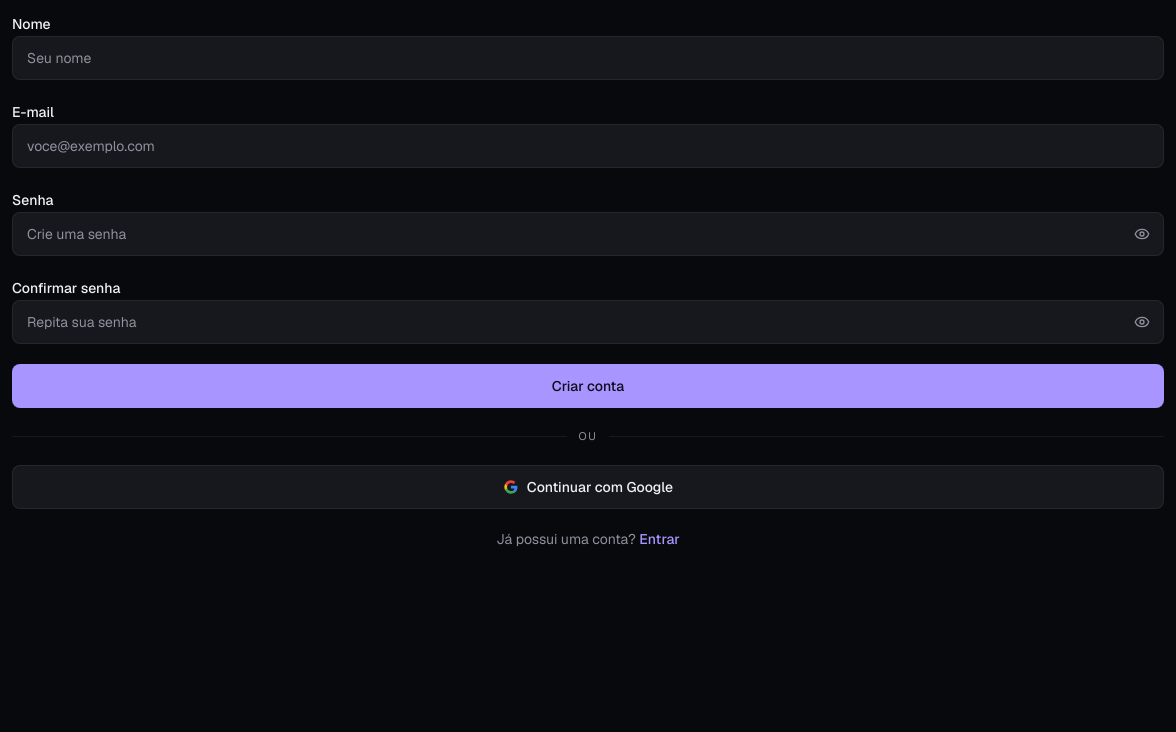
it: fluxo visual de autenticação › valida cadastro, incluindo tamanho e confirmação da senha
Click the button "Criar conta" at (588, 386), box [12, 364, 1164, 408]
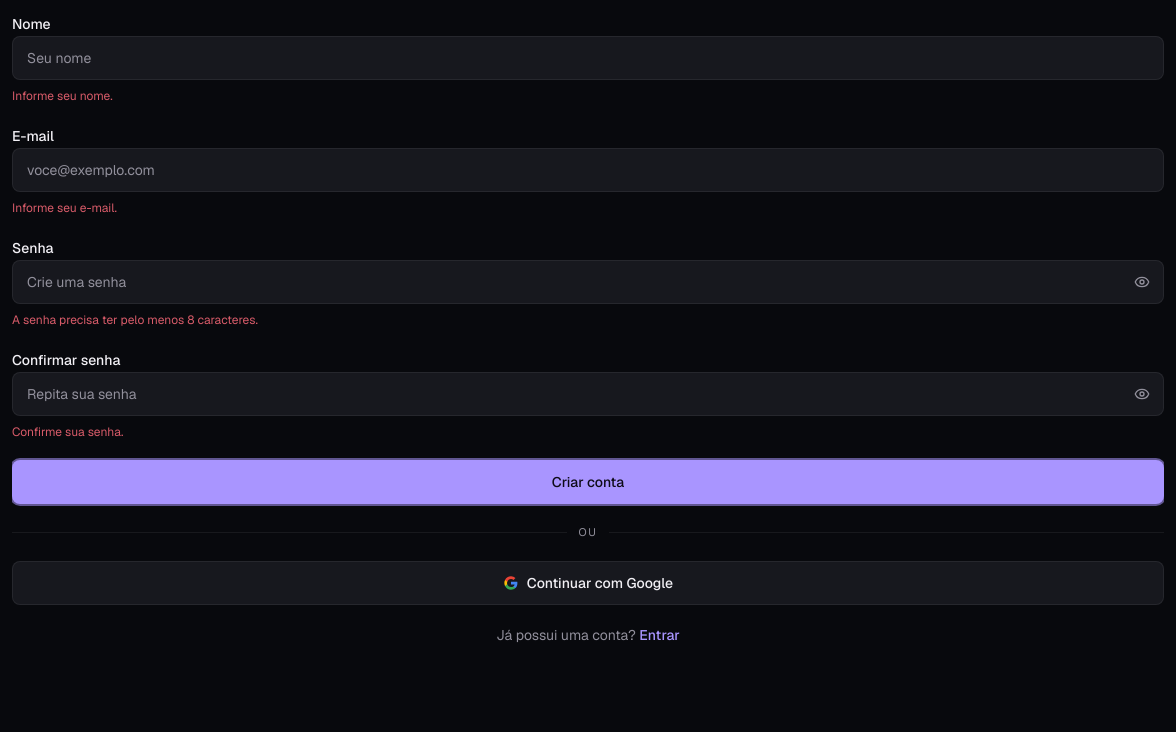
expect the text "Informe seu nome." is shown: met, box [12, 88, 113, 104]
expect the text "Informe seu e-mail." is shown: met, box [12, 200, 117, 216]
expect the text "A senha precisa ter pelo menos 8 caracteres." is shown: met, box [12, 312, 258, 328]
Type "Ana" into the field labelled "Nome" at (588, 58), box [12, 36, 1164, 80]
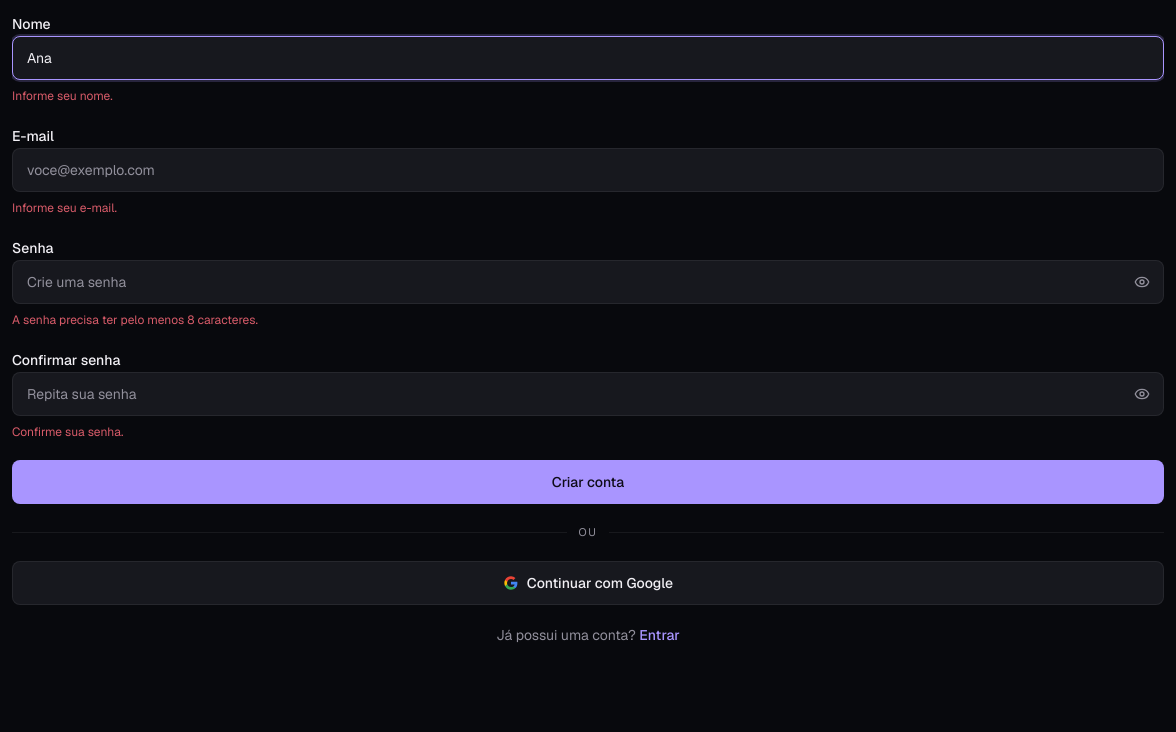
Type "ana@example.com" into the field labelled "E-mail" at (588, 170), box [12, 148, 1164, 192]
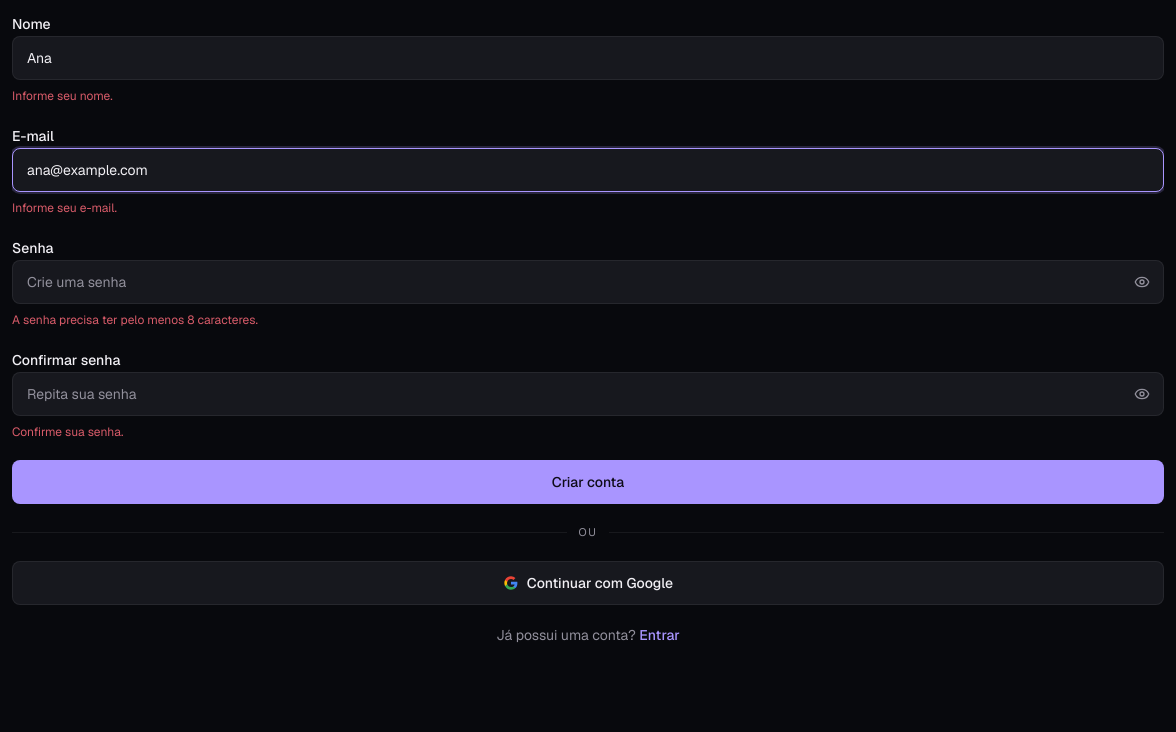
Type "senha-segura" into the password field labelled "Senha" at (588, 282), box [12, 260, 1164, 304]
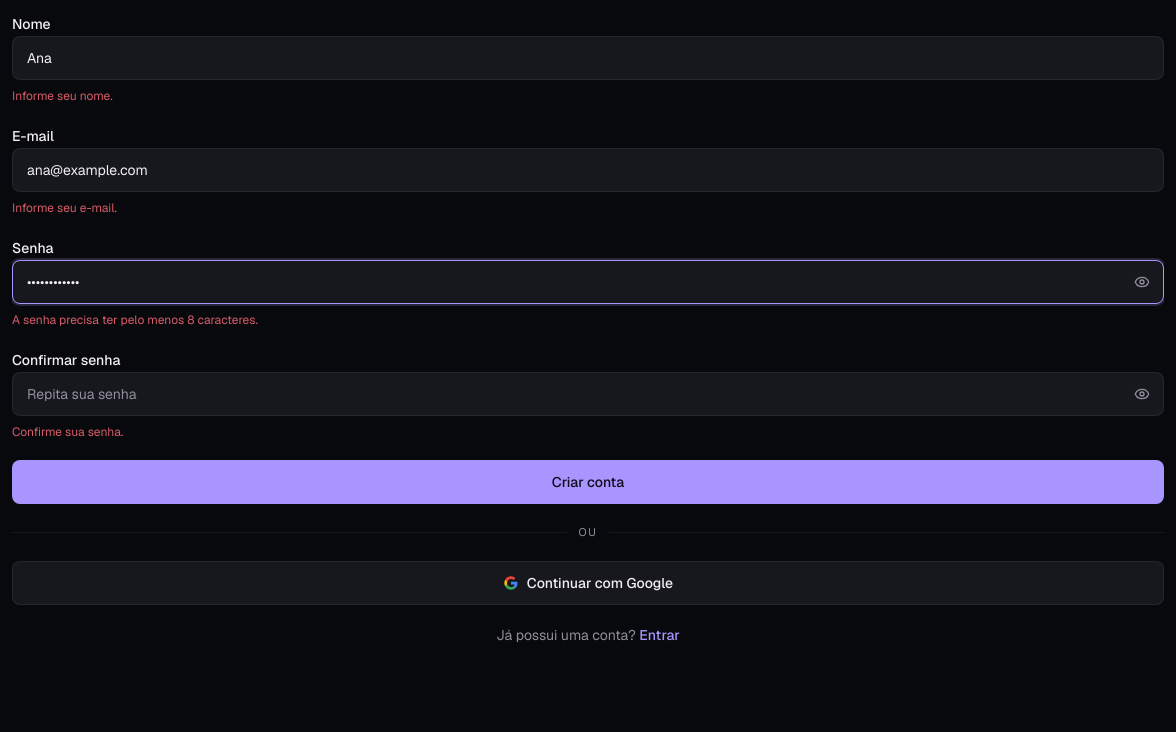
Type "outra-senha" into the password field labelled "Confirmar senha" at (588, 394), box [12, 372, 1164, 416]
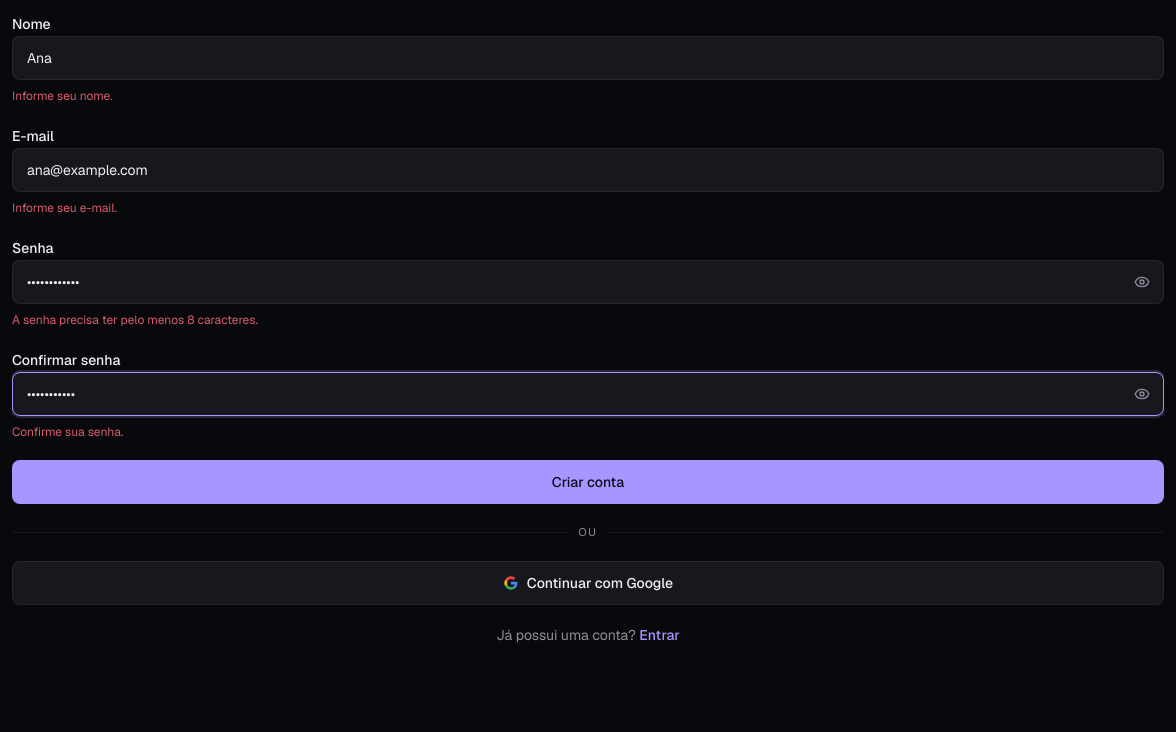
Click the button "Criar conta" at (588, 482), box [12, 460, 1164, 504]
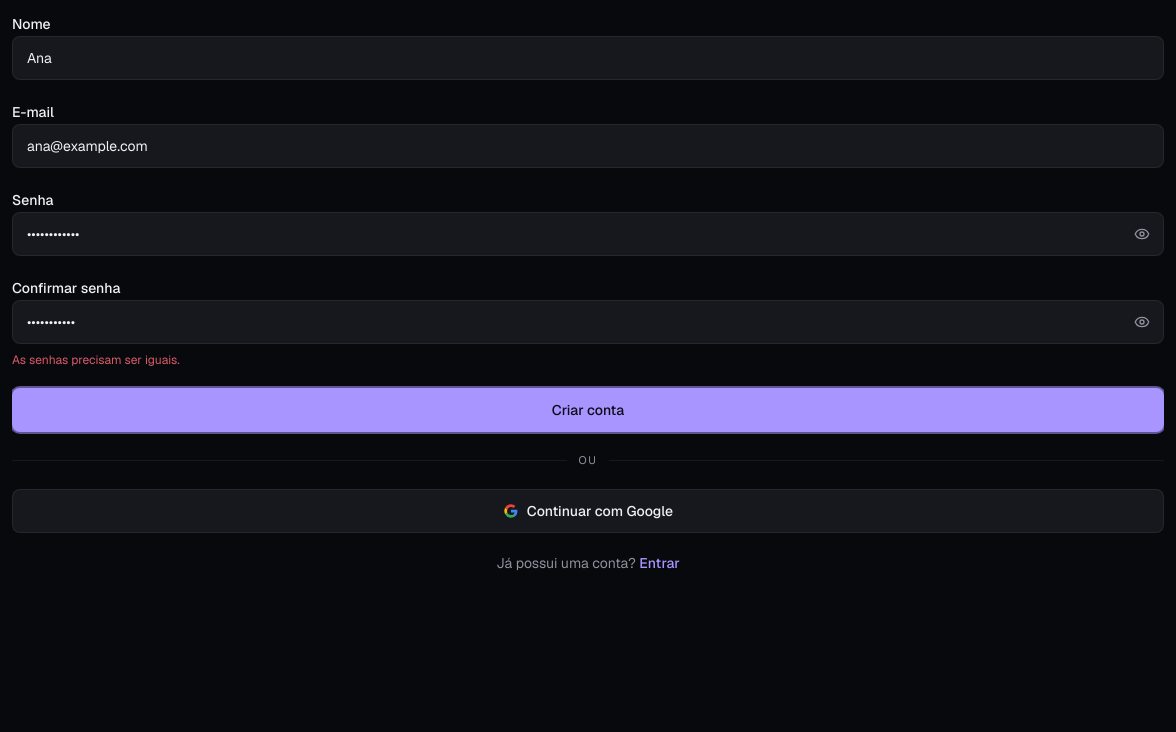
expect the text "As senhas precisam ser iguais." is shown: met, box [12, 352, 180, 368]
